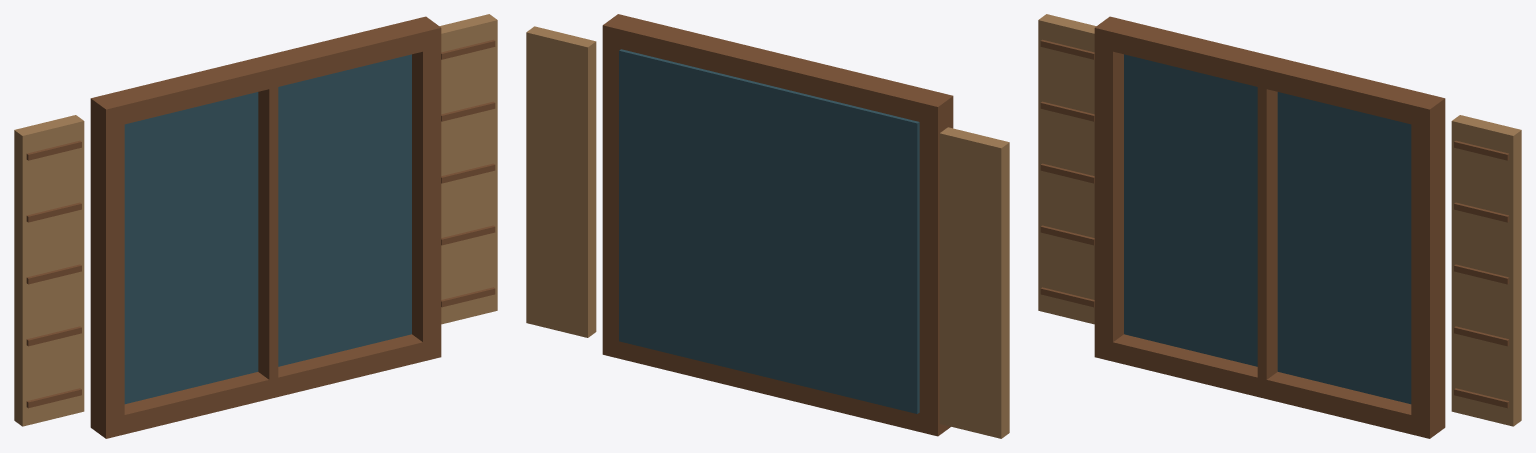
The model's file is window_06.glb.
The picture shows the model from 3 angles, left to right: view 1: azimuth 30°, elevation 25°; view 2: azimuth 150°, elevation 25°; view 3: azimuth 330°, elevation 25°; orthographic projection.
Parts seen in each view (by area): view 1: window_06; view 2: window_06; view 3: window_06.
Part boxes in pixels (bbox=[...]): window_06: bbox=[14, 14, 497, 438]; window_06: bbox=[526, 14, 1009, 438]; window_06: bbox=[1038, 14, 1521, 438].
Size of the model in its own units: 2.31 by 1.53 by 0.185.
